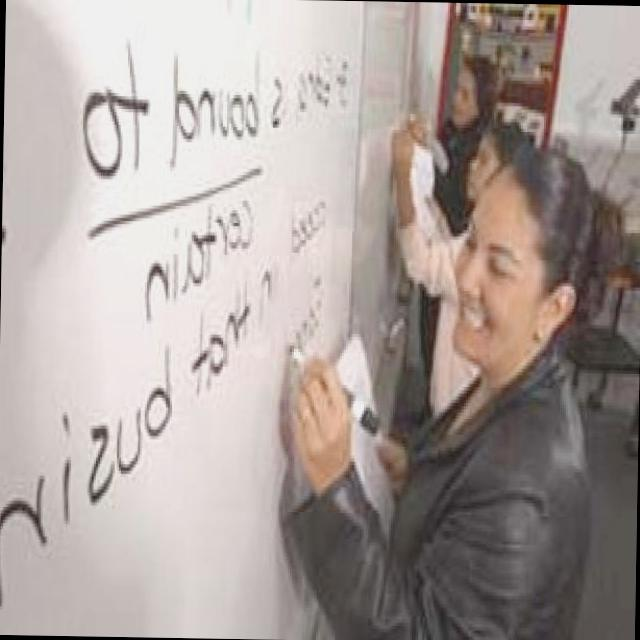no_vest: (343, 315, 637, 640)
